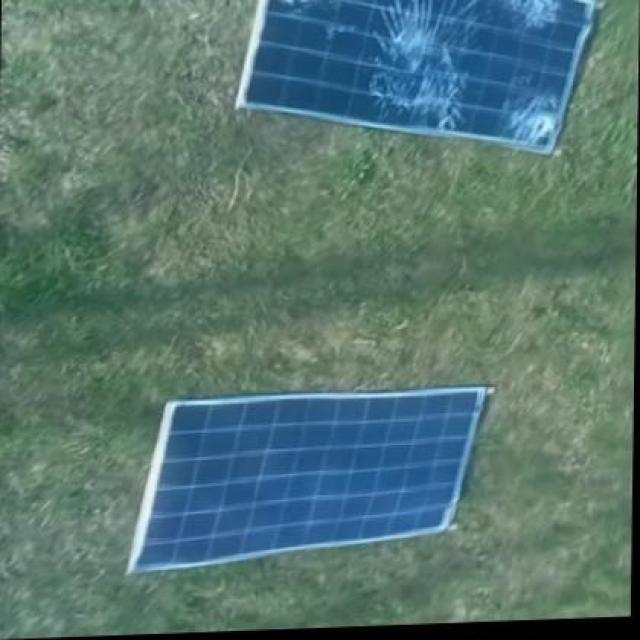cracked: (235, 1, 598, 154)
